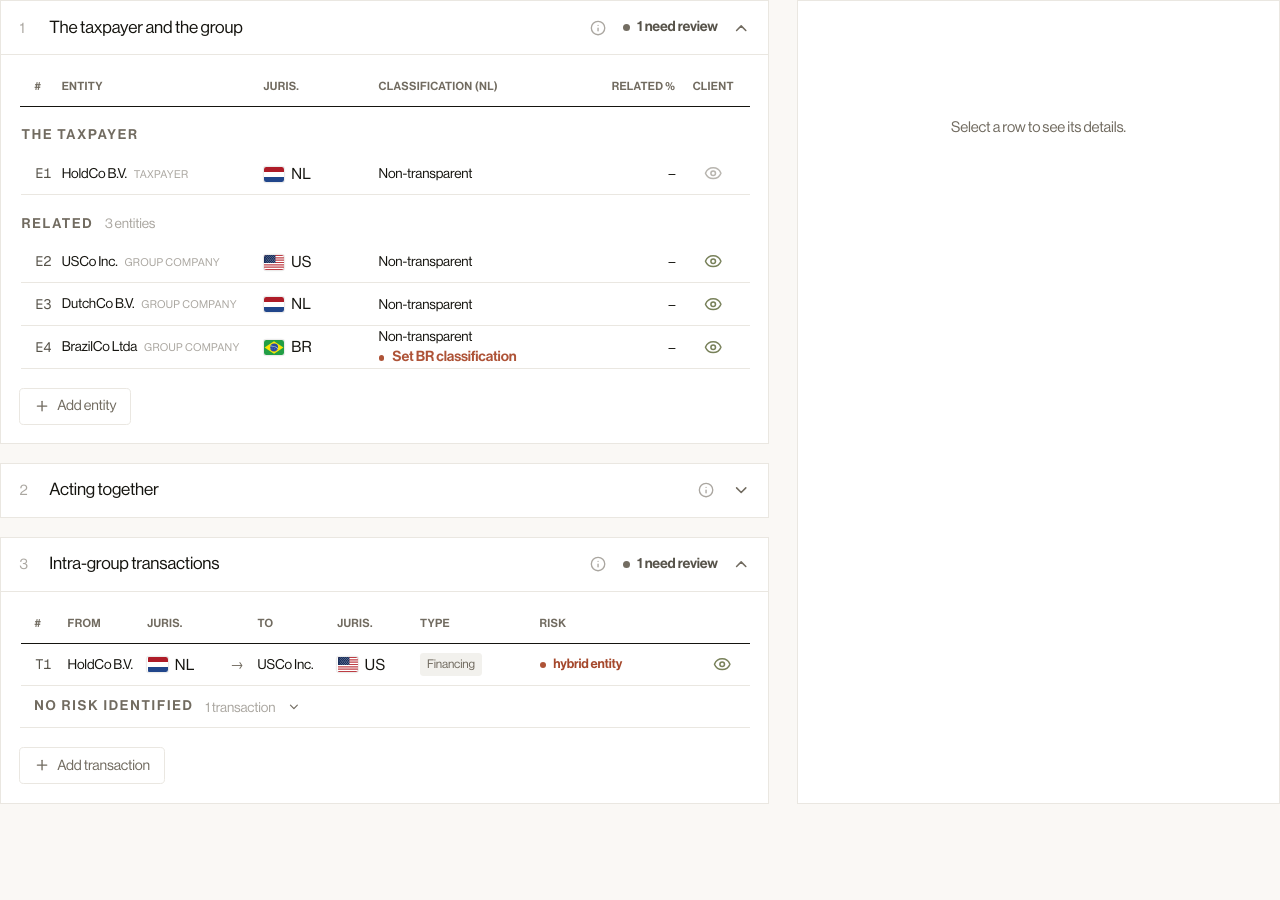
Test: FactsPanelV2 — resting state + master-detail (section 3) › opens the panel on row click and swaps content without losing the panel
Step 1. Click the button "T1 HoldCo B.V. NL → USCo Inc. US Financing hybrid entity" → [385, 664], box x1=20 y1=643 x2=750 y2=686
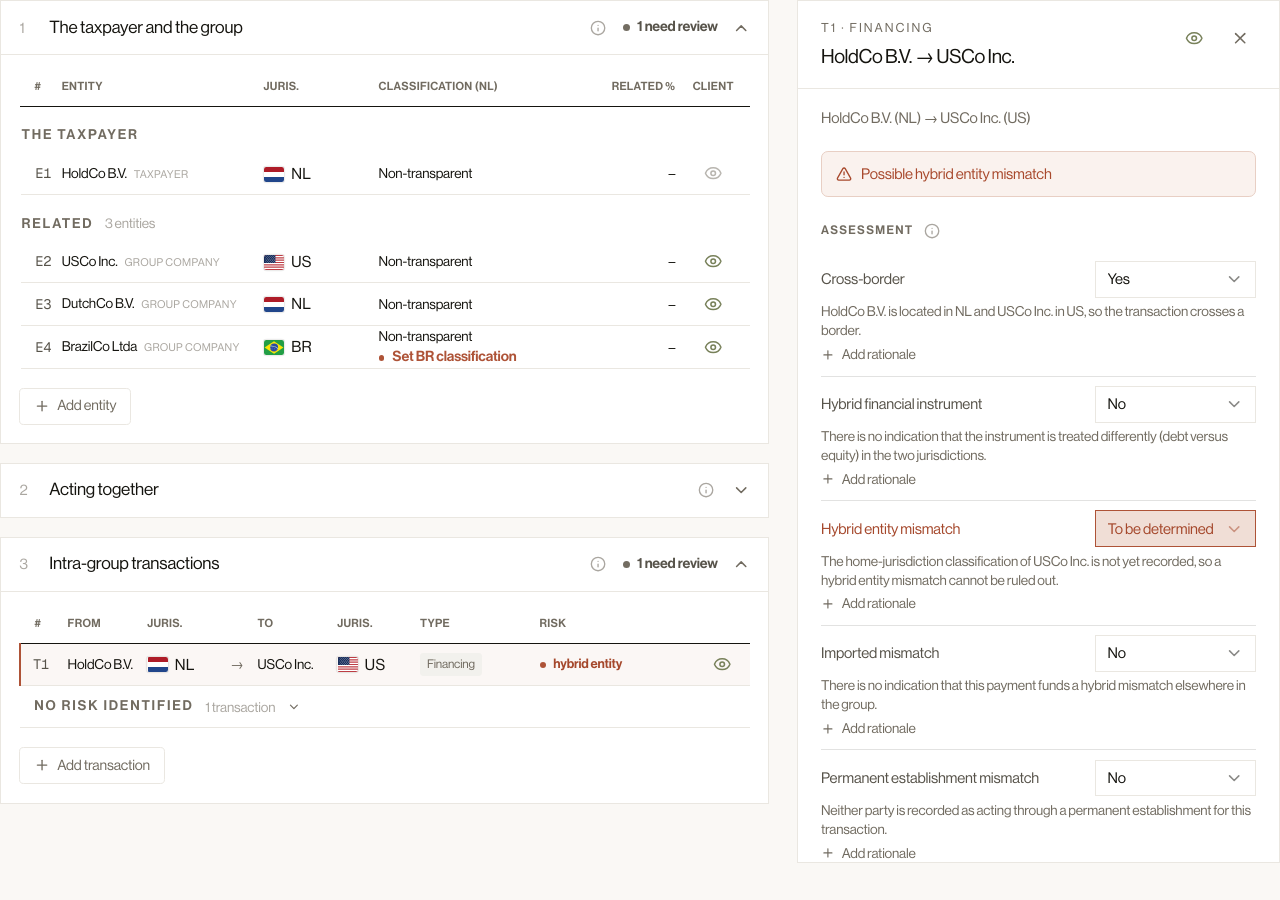
Result: the text "Assessment" is shown at x1=821 y1=222 x2=914 y2=240
Result: the text "T1 · Financing" is shown at x1=821 y1=20 x2=934 y2=35
Step 2. Click the button "No risk identified 1 transaction" → [167, 707], box x1=34 y1=698 x2=301 y2=716
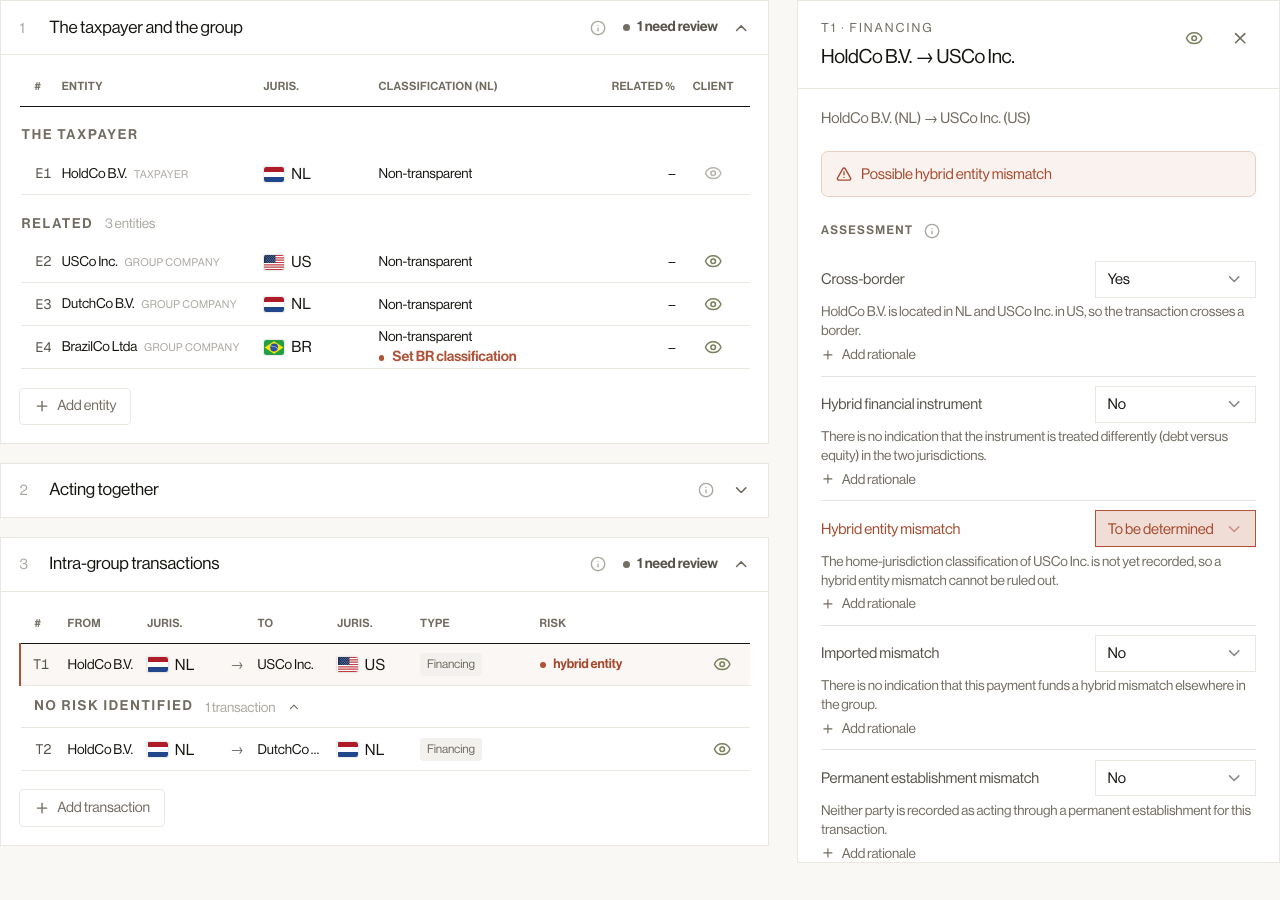
Step 3. Click the button "T2 HoldCo B.V. NL → DutchCo B.V. NL Financing" → [385, 749], box x1=20 y1=728 x2=750 y2=770
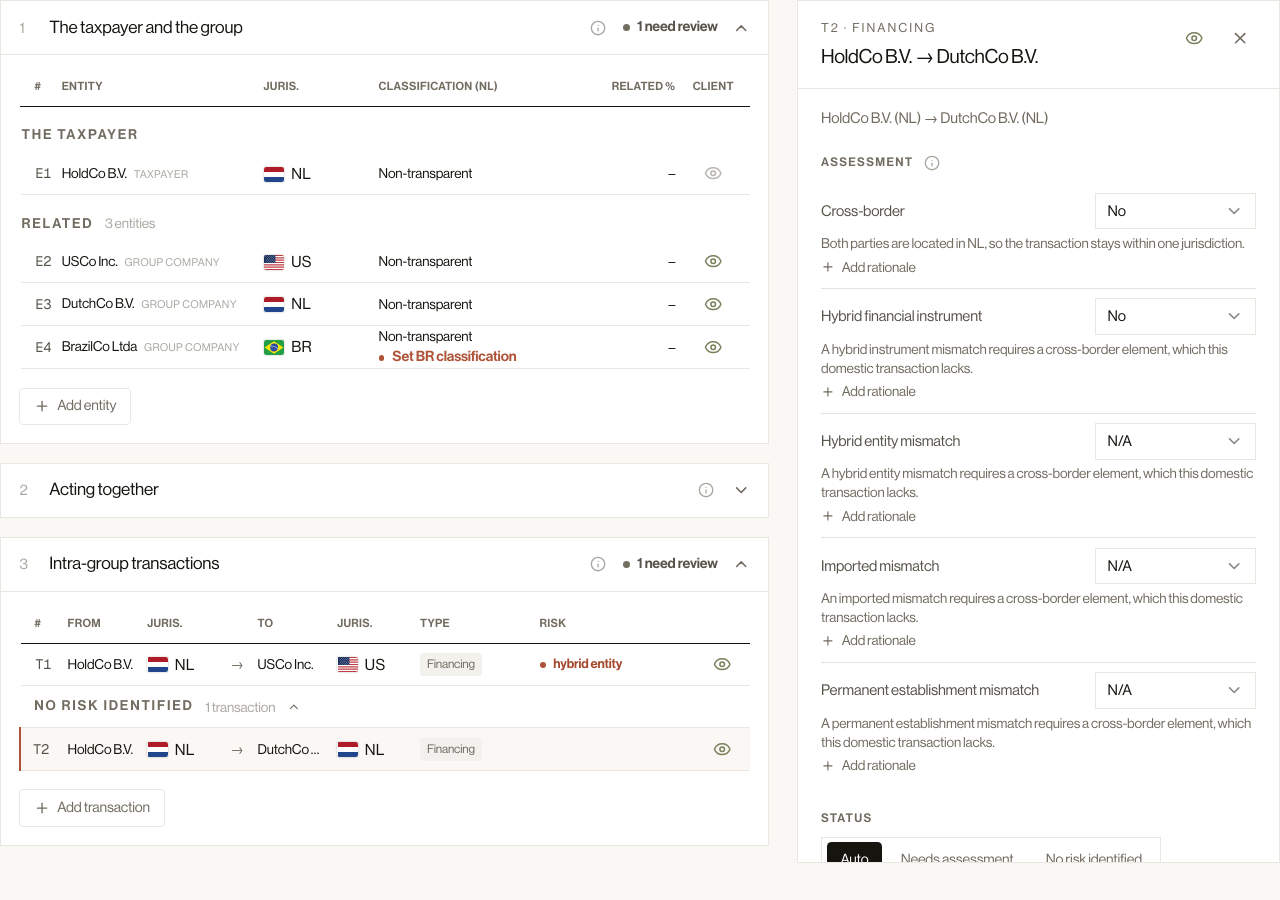
Result: the text "T2 · Financing" is shown at x1=821 y1=20 x2=936 y2=35
Result: the text "Assessment" is shown once at x1=821 y1=154 x2=914 y2=172
